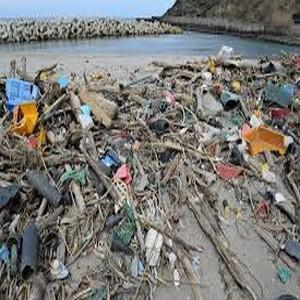Plastic: (47, 256, 71, 282)
